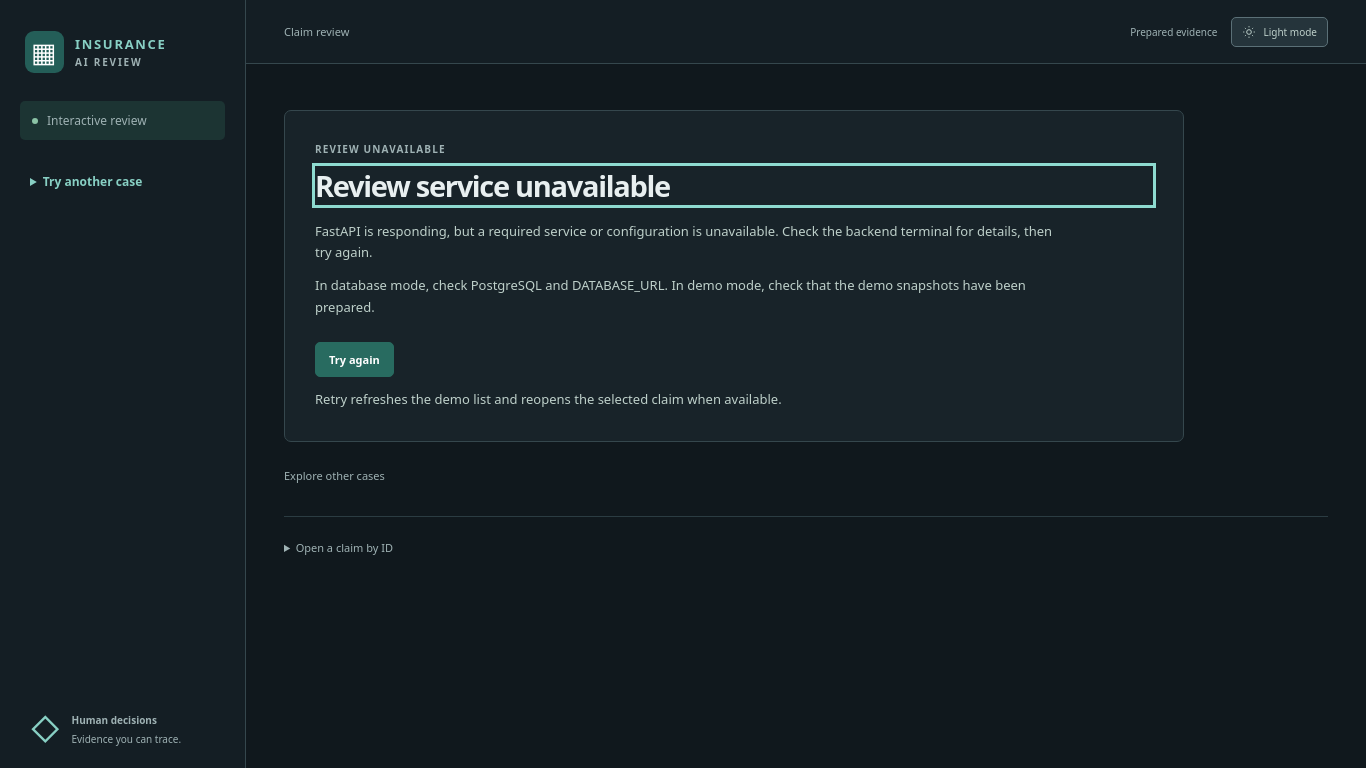
Test: Review API integration › refreshes the catalogue and preserves the requested claim when retrying an API failure
Expected: the heading "Review service unavailable" is shown, [315, 166, 670, 204]
Click the button "Try again" at point(354, 360), box [315, 342, 394, 377]
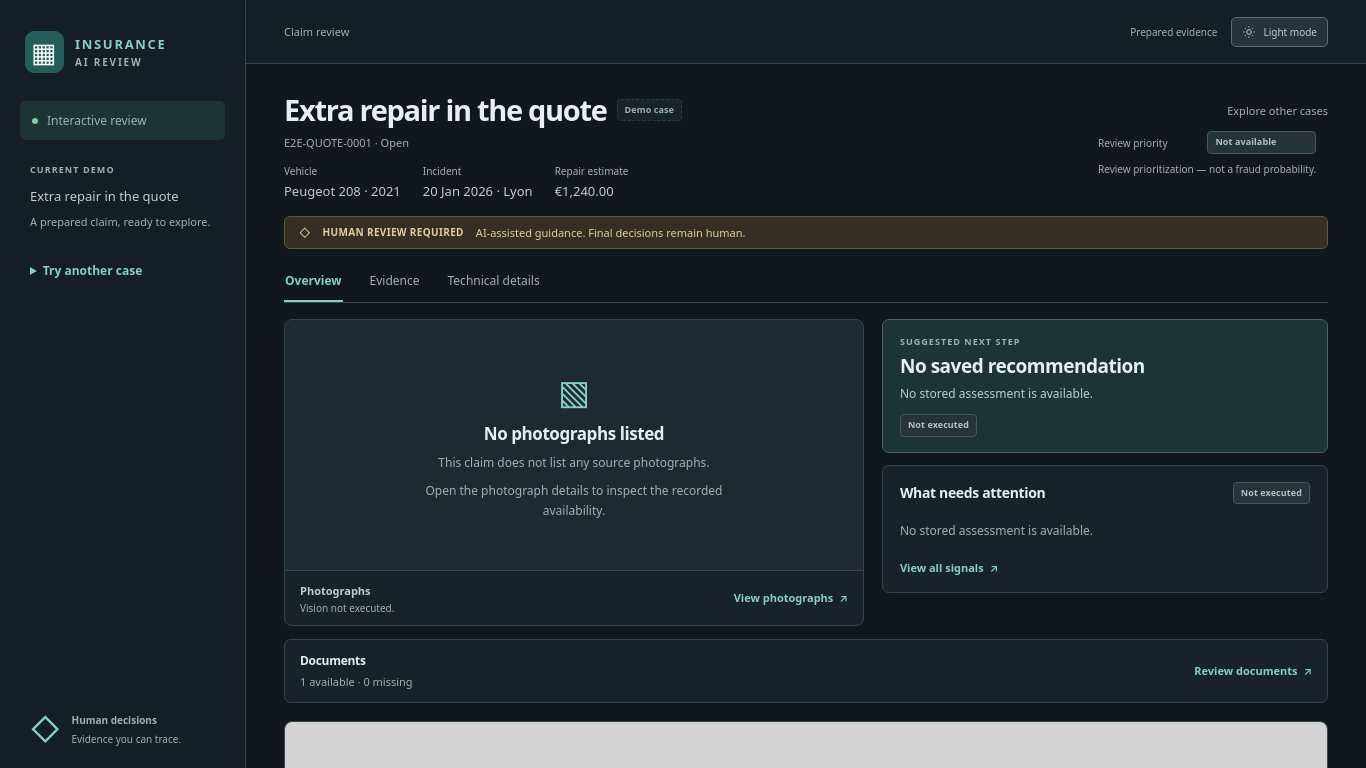
Expected: the heading "Extra repair in the quote" is shown, [284, 92, 607, 128]
